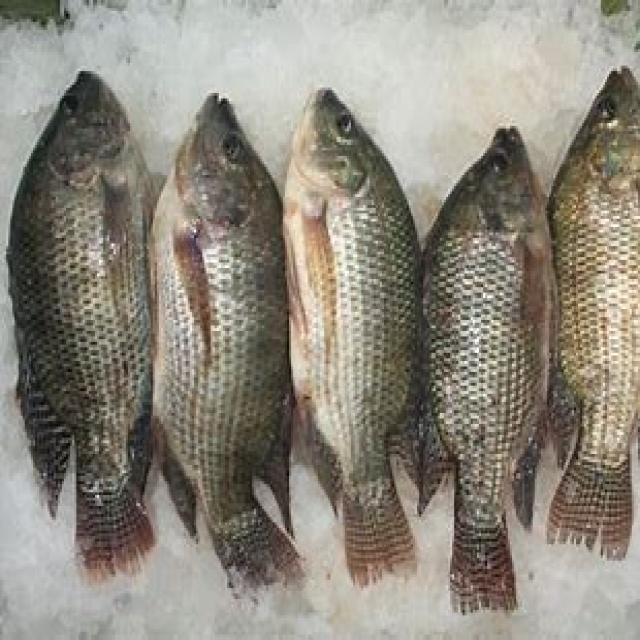Tilapia: (282, 83, 426, 582)
